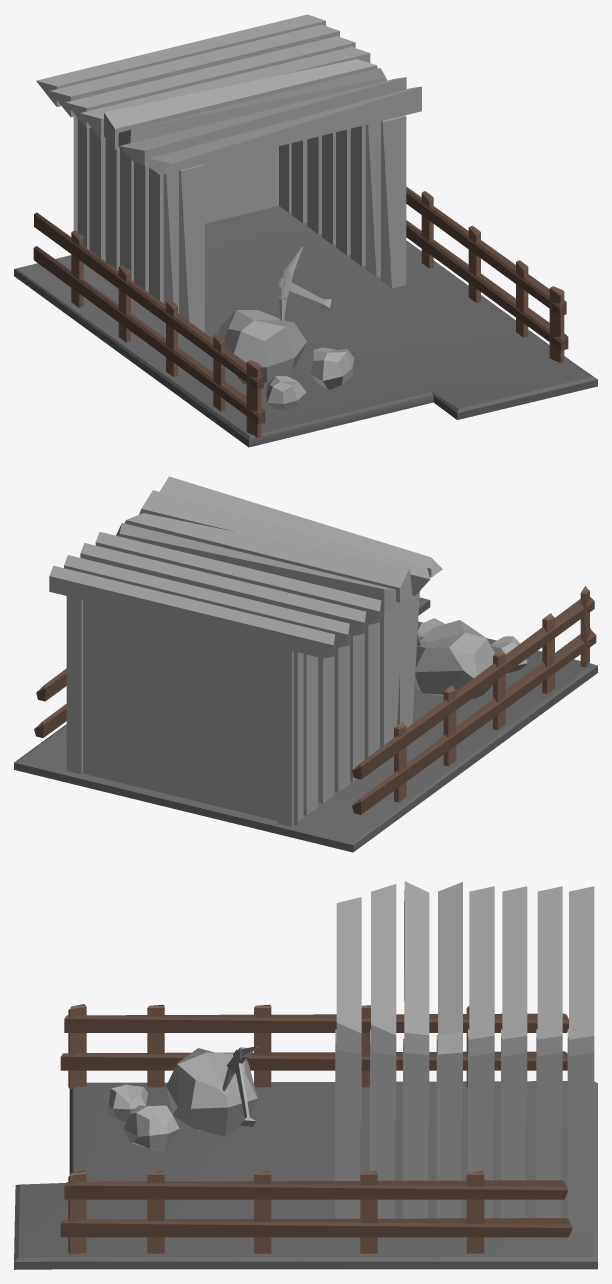
File: mine (1).fbx
The picture shows the model from 3 angles, top to bottom: view 1: azimuth 30°, elevation 25°; view 2: azimuth 150°, elevation 25°; view 3: azimuth 270°, elevation 25°; orthographic projection. The views are drawn at different scales.
Parts seen in each view (by area): view 1: polySurface68; view 2: polySurface68; view 3: polySurface68.
Boxes of the visible parts, x1,y1,x2,y2 form: polySurface68: [14, 14, 597, 447]; polySurface68: [14, 476, 597, 852]; polySurface68: [14, 881, 597, 1269].
Size of the model in its own units: 3.98 by 2.38 by 5.5.
